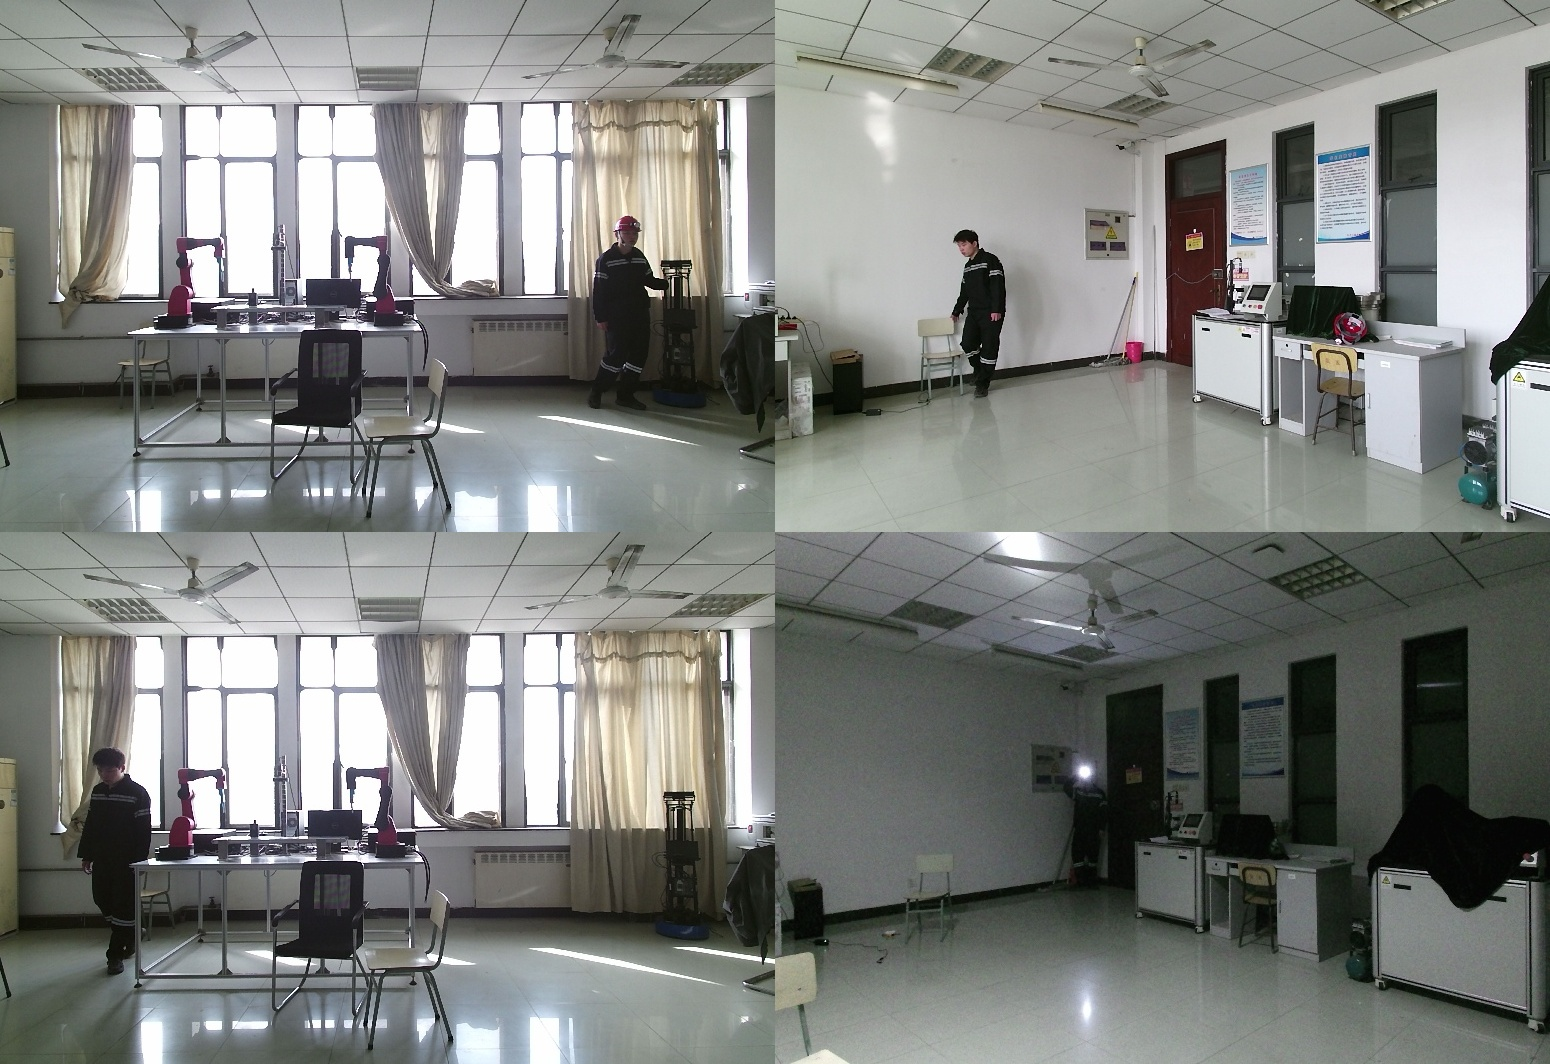person: (77, 748, 151, 975), (590, 217, 666, 417), (952, 229, 1011, 404), (1061, 768, 1107, 891)
